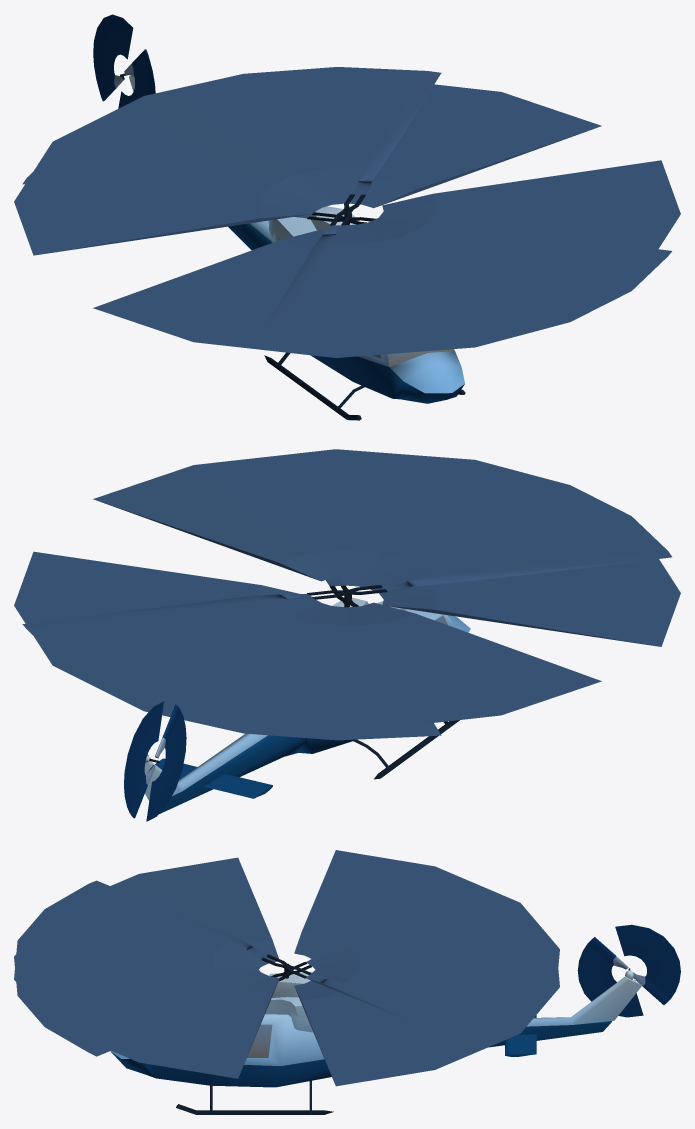
The model's file is vehicles-aircraft-helicopter_v3.fbx.
3 views of the same model, one above another, from view 1: azimuth 30°, elevation 25°; view 2: azimuth 150°, elevation 25°; view 3: azimuth 270°, elevation 25° (orthographic). The views are drawn at different scales.
Visible parts, largest first — view 1: Helicopter_v3; view 2: Helicopter_v3; view 3: Helicopter_v3.
Boxes of the visible parts, x1,y1,x2,y2 form: Helicopter_v3: (14, 14, 680, 420); Helicopter_v3: (14, 449, 680, 821); Helicopter_v3: (14, 850, 680, 1114).
Bounding box in the file's own units: 10.55 × 3.53 × 13.
